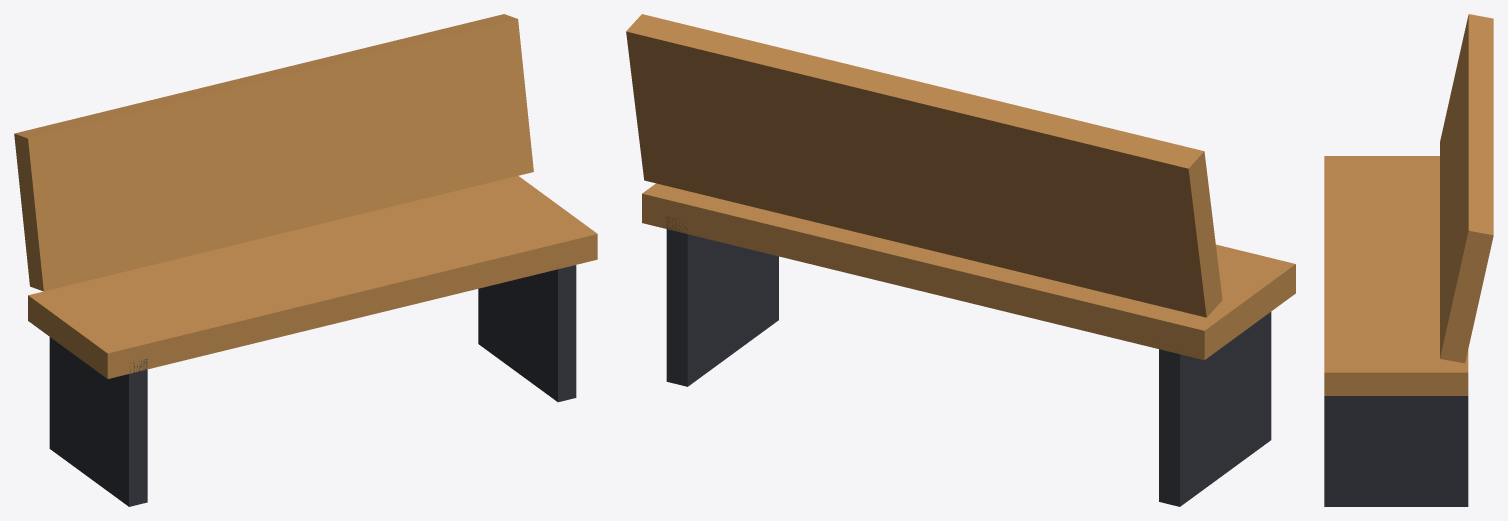
File: park_bench.glb
3 renders of one model, left to right at view 1: azimuth 30°, elevation 25°; view 2: azimuth 150°, elevation 25°; view 3: azimuth 270°, elevation 25°, orthographic. The views are drawn at different scales.
Visible parts, largest first — view 1: park_bench; view 2: park_bench; view 3: park_bench.
Part boxes in pixels (x1=…): park_bench: x1=14, y1=14, x2=597, y2=506; park_bench: x1=626, y1=14, x2=1295, y2=506; park_bench: x1=1324, y1=14, x2=1493, y2=506.
Size of the model in its own units: 1.6 by 0.9835 by 0.5289.
